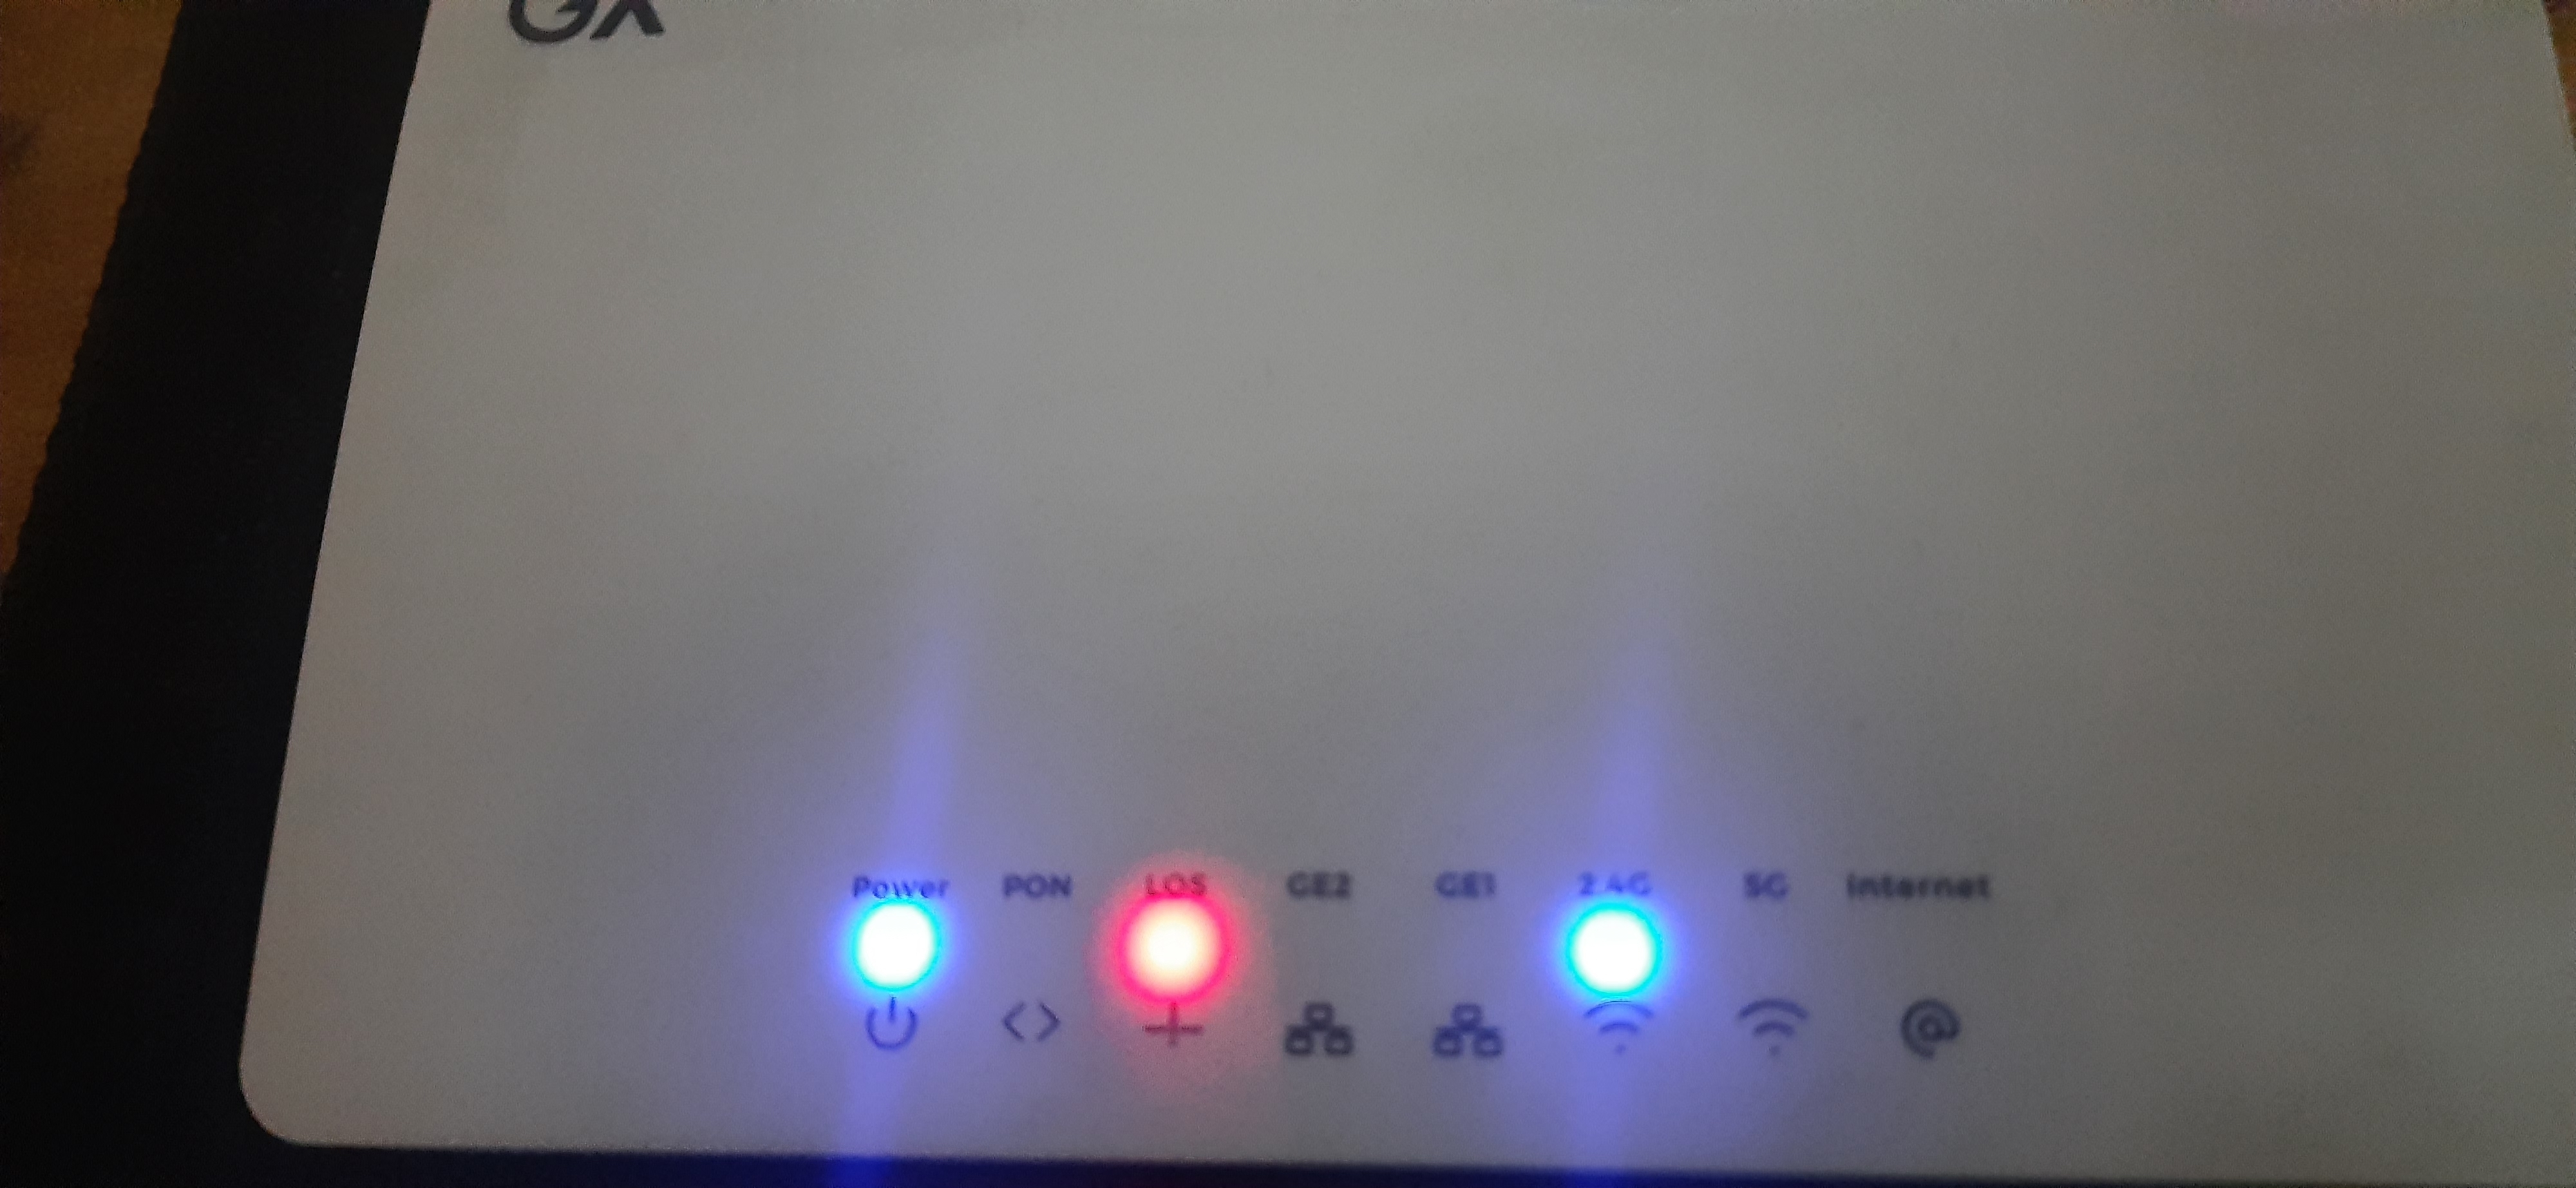LOSConnectionIssue: (1083, 840, 1258, 1106)
